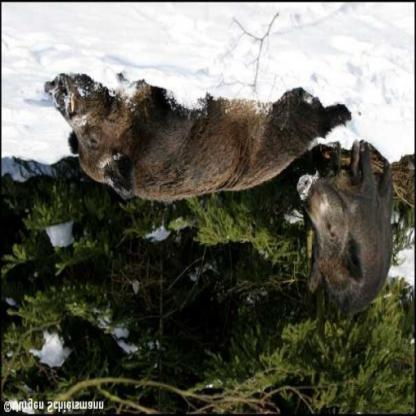boar: (51, 59, 354, 212), (293, 155, 409, 317)
